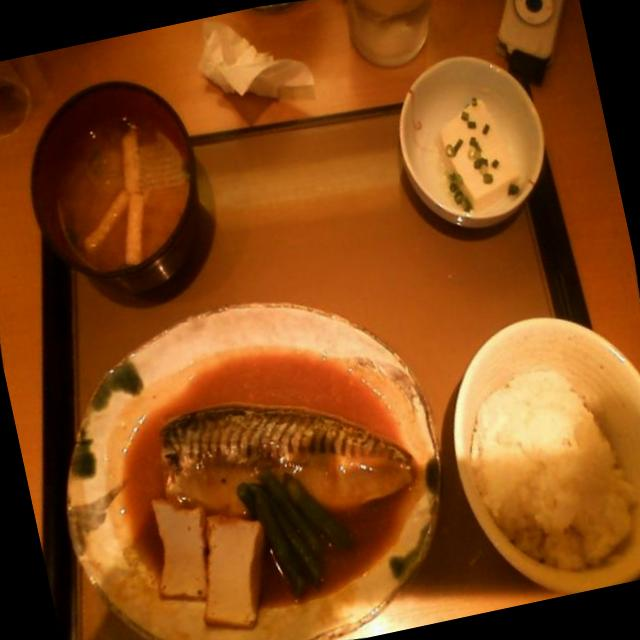Rice: (443, 327, 640, 596)
